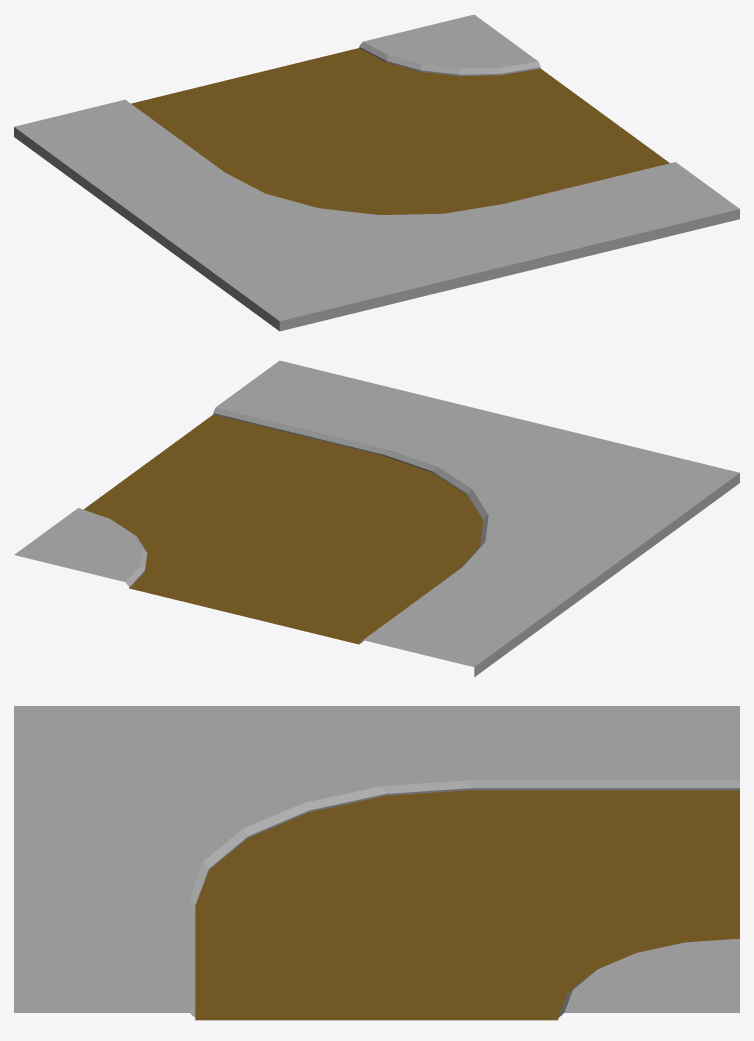
The model's file is roadTurnMuddy.fbx.
3 renders of one model, top to bottom at view 1: azimuth 30°, elevation 25°; view 2: azimuth 150°, elevation 25°; view 3: azimuth 270°, elevation 25°, orthographic. The views are drawn at different scales.
Visible parts, largest first — view 1: RoadTurnMuddy; view 2: RoadTurnMuddy; view 3: RoadTurnMuddy.
Boxes of the visible parts, bbox=[...] form: RoadTurnMuddy: bbox=[14, 14, 739, 331]; RoadTurnMuddy: bbox=[14, 360, 739, 676]; RoadTurnMuddy: bbox=[14, 706, 739, 1020].
Bounding box in the file's own units: 2000 × 42.29 × 2000.
